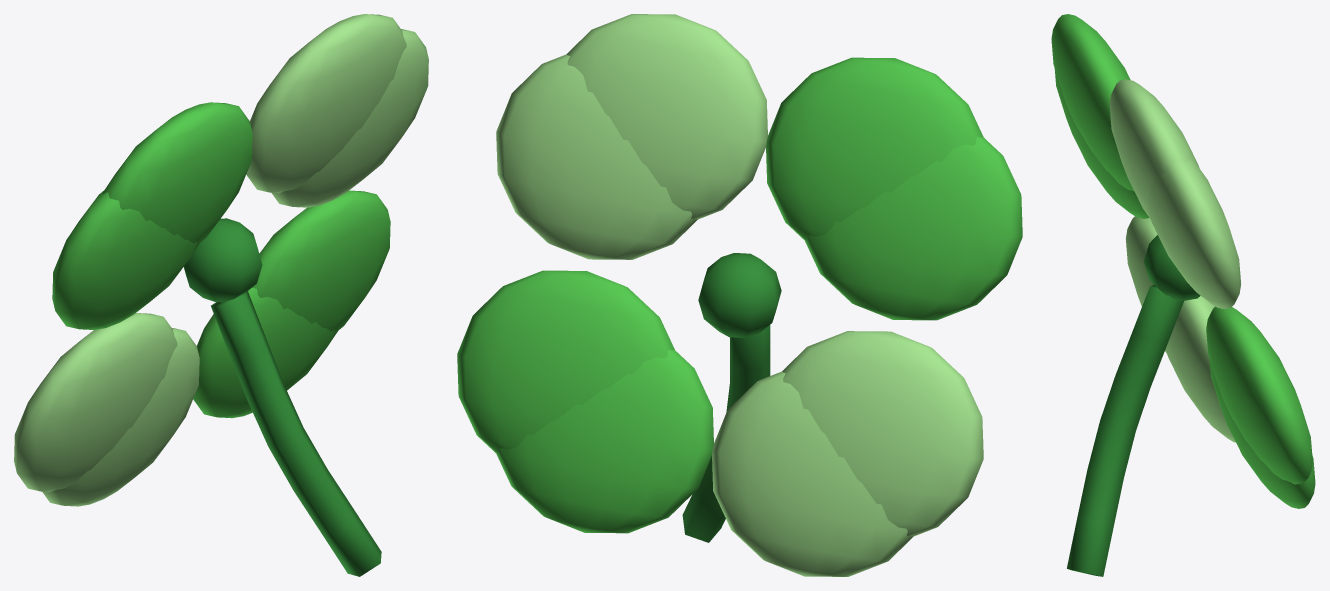
The model's file is Clover3D.glb.
3 views of the same model, side by side, from view 1: azimuth 30°, elevation 25°; view 2: azimuth 150°, elevation 25°; view 3: azimuth 270°, elevation 25° (orthographic). The views are drawn at different scales.
Parts seen in each view (by area): view 1: Body; view 2: Body; view 3: Body.
Part boxes in pixels (x1,y1,x2,y2): Body: [14, 14, 428, 576]; Body: [457, 14, 1022, 576]; Body: [1051, 14, 1315, 576].
Size of the model in its own units: 1.45 by 1.65 by 0.7992.
1 material, 1 textured.
